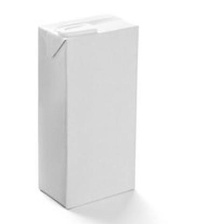carton: (33, 10, 148, 212)
